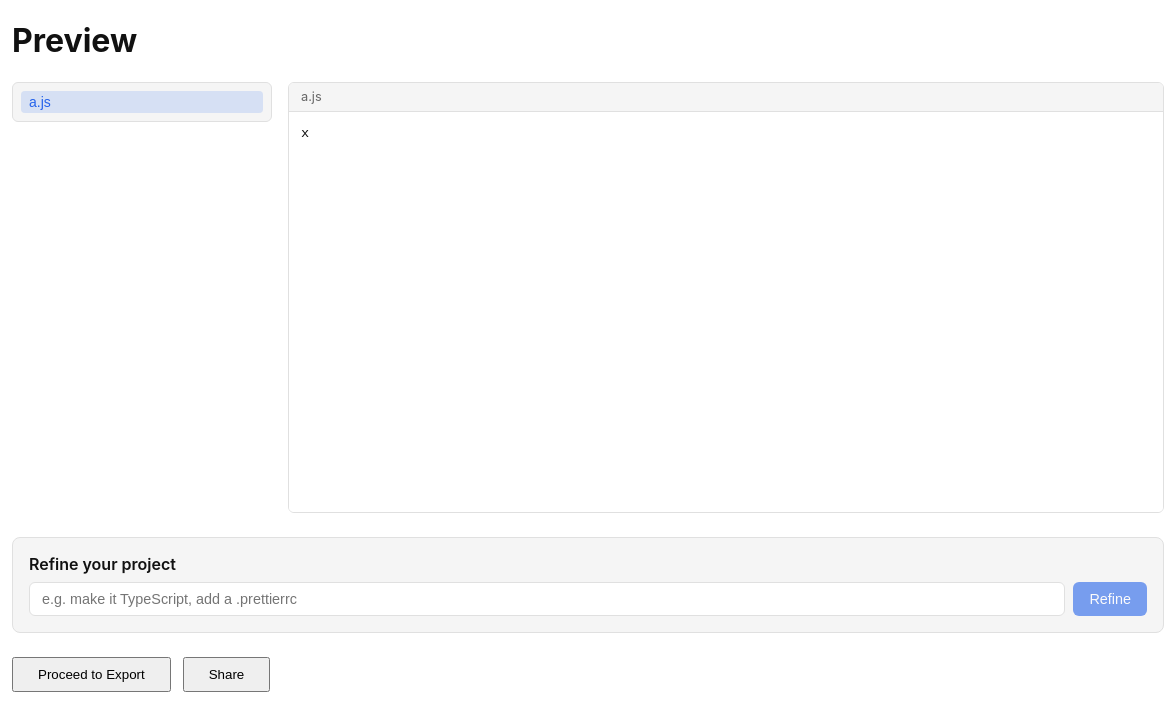
it: PreviewPage › submits a refinement instruction and shows updated file
Type "convert to TypeScript" into the field named "refinement" at {"x": 547, "y": 599}, box x1=29 y1=582 x2=1065 y2=616
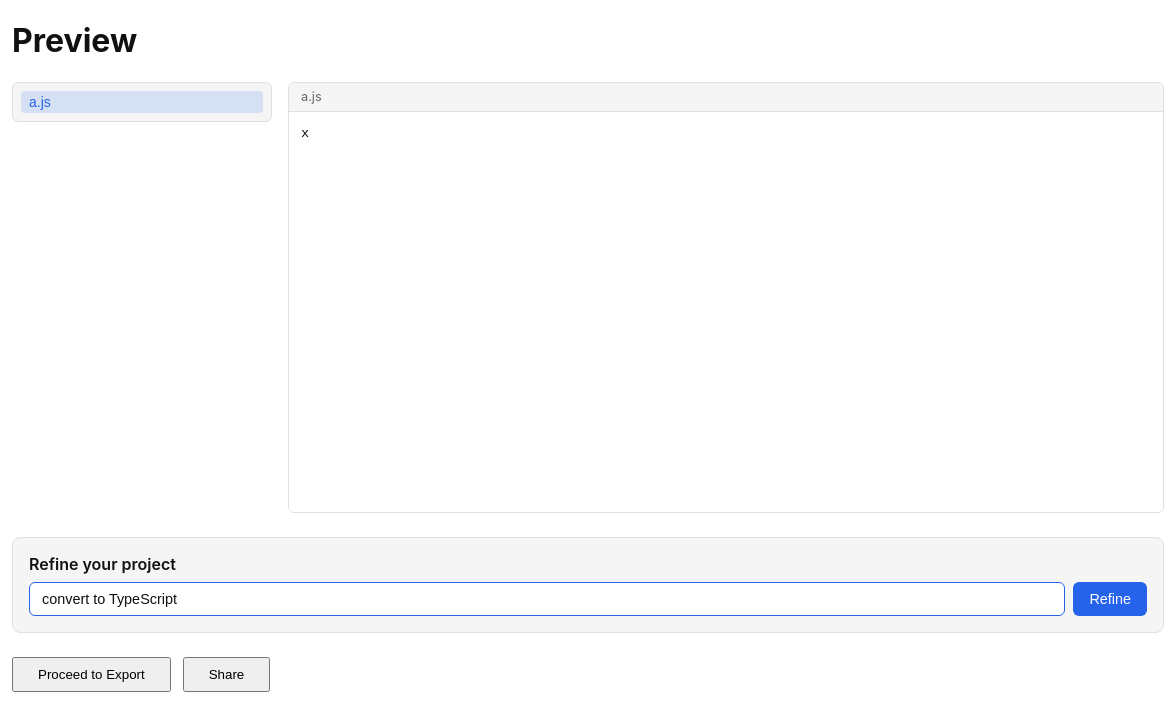
Click the button "Refine" at {"x": 1110, "y": 599}, box x1=1073 y1=582 x2=1147 y2=616
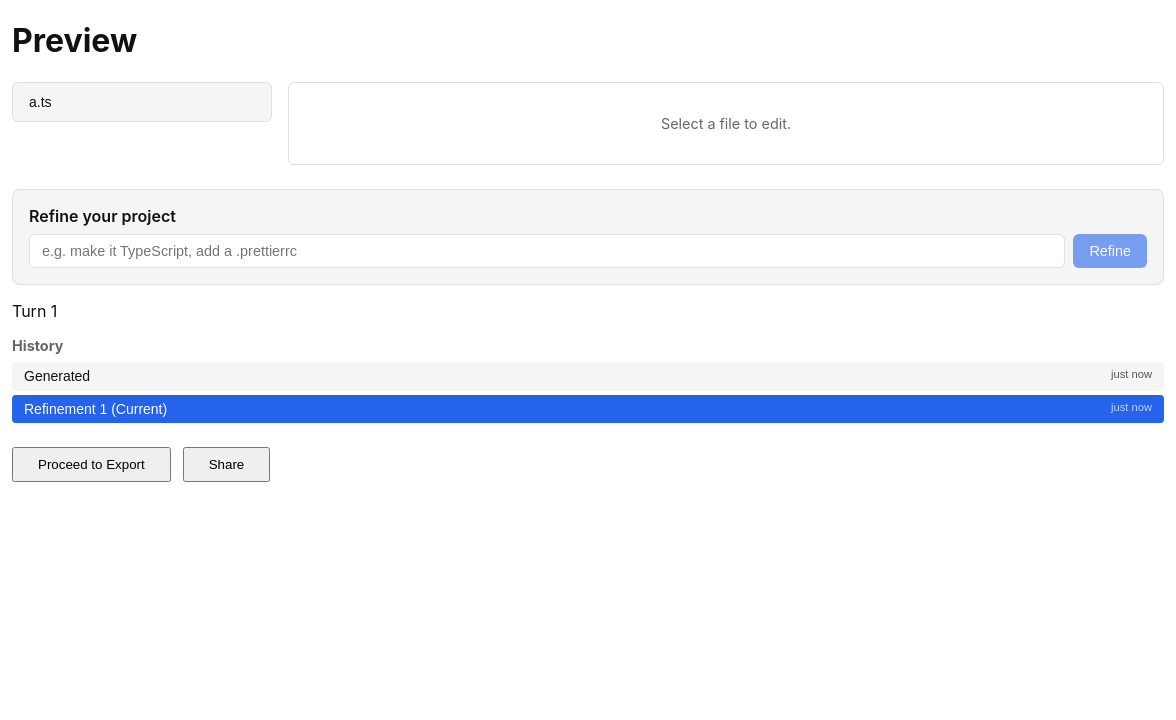
Expected: the button "a.ts" is shown, x1=21 y1=91 x2=263 y2=113
